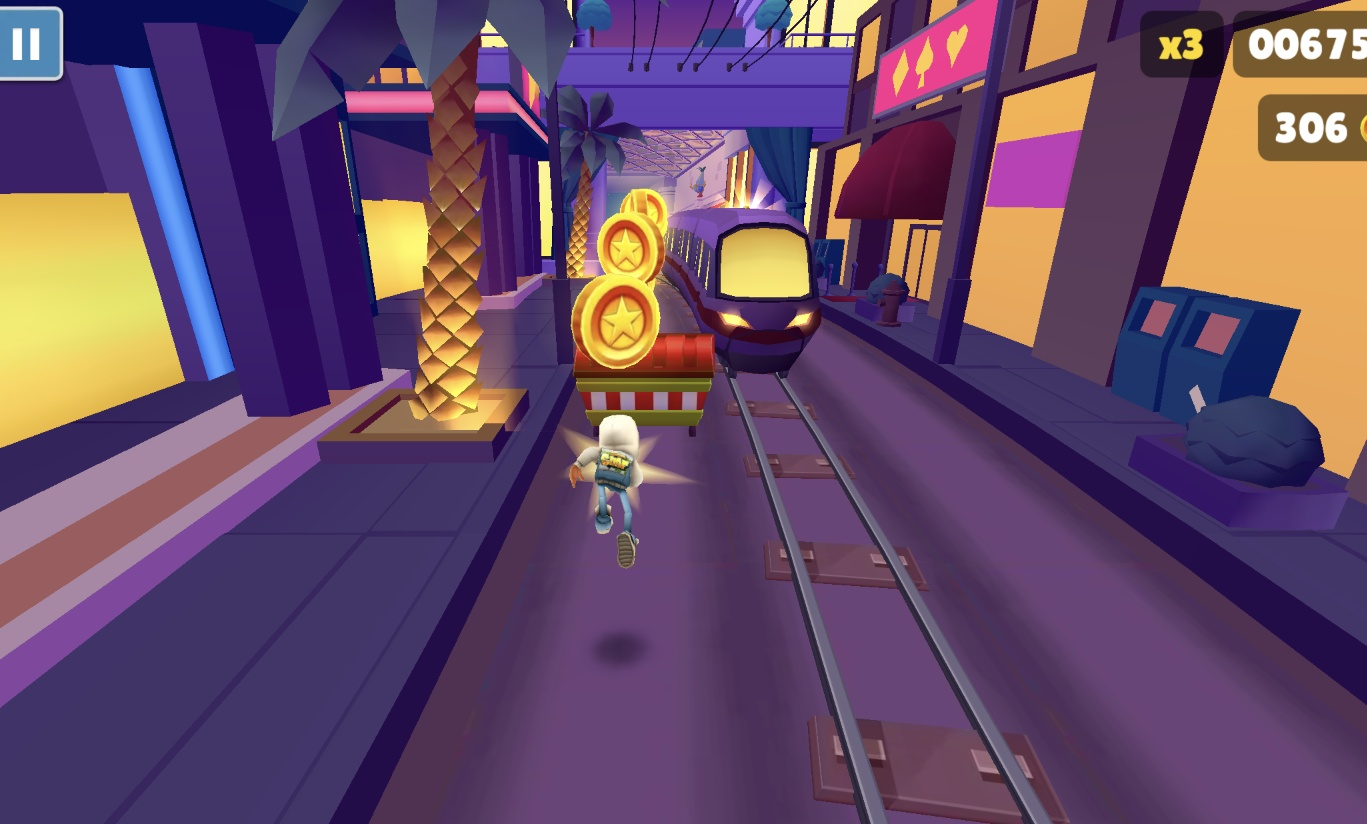small_obstacle: (573, 333, 715, 438)
train: (667, 207, 824, 375)
